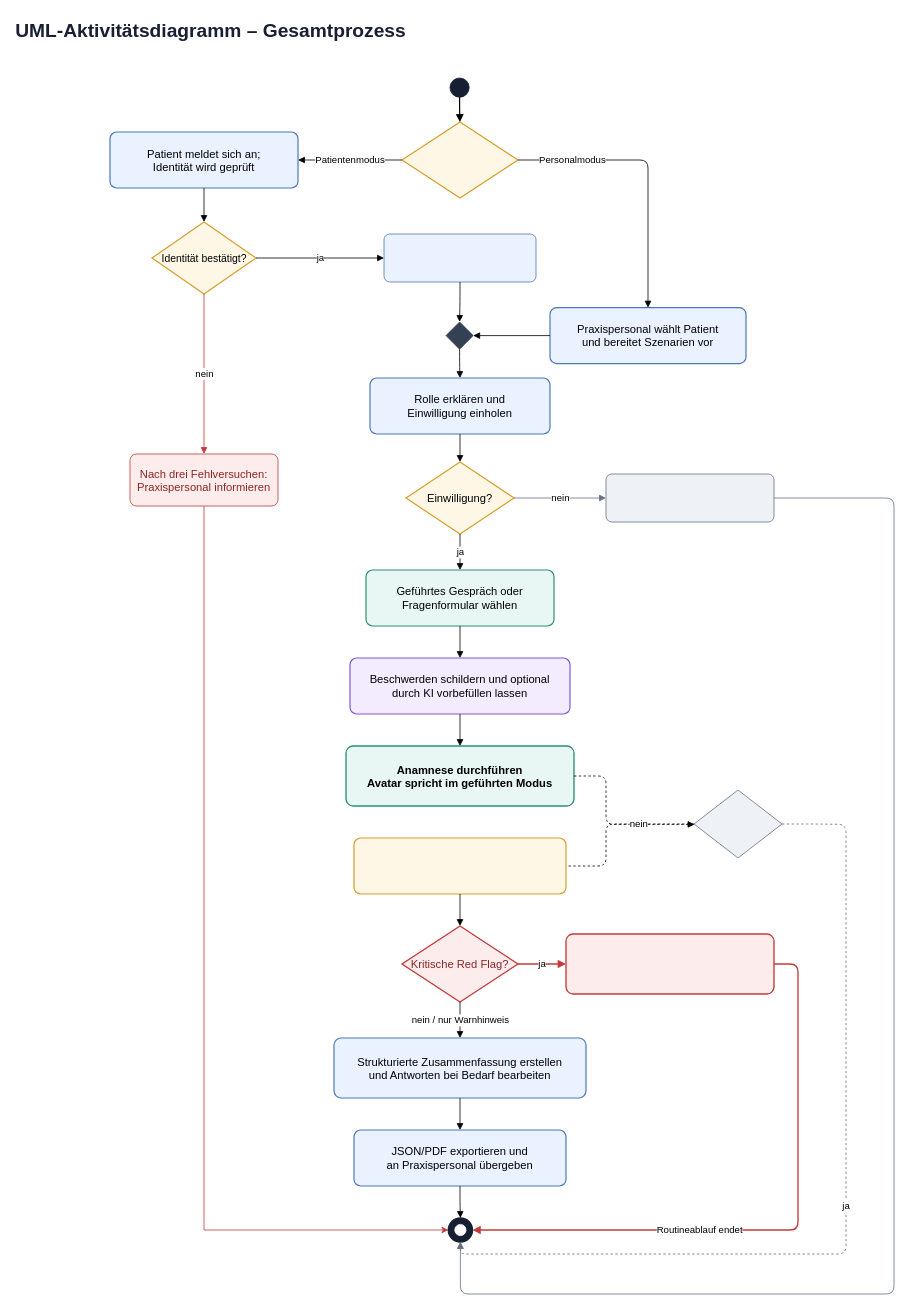
Some shapes in this 914 by 1314 pixel diagram are drawn without their labels. The centre of each missing label's shape, as x and y in pixels:
Abbruch?: the point at 737,823
Anamnese nicht durchführen: the point at 689,497
Einstiegsmodus?: the point at 459,159
Kritische Angabe bestätigen; sofort an Praxisteam eskalieren: the point at 669,963
Szenario auswählen: the point at 459,257
Vitalparameter manuell erfassen oder simulieren: the point at 459,865
